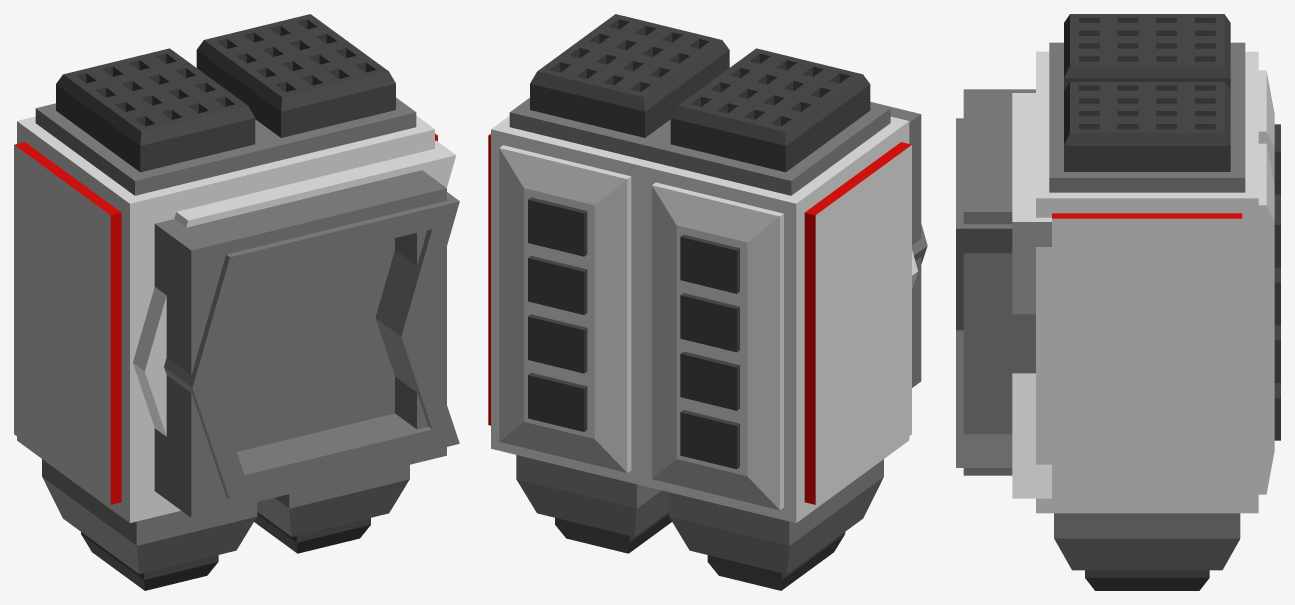
The picture shows the model from 3 angles, left to right: view 1: azimuth 30°, elevation 25°; view 2: azimuth 150°, elevation 25°; view 3: azimuth 270°, elevation 25°; orthographic projection.
Visible parts, largest first — view 1: lnchr, shld; view 2: lnchr; view 3: lnchr, shld.
Boxes of the visible parts, x1=… form: lnchr: x1=14, y1=14, x2=446, y2=590; shld: x1=133, y1=140, x2=459, y2=499; lnchr: x1=488, y1=14, x2=921, y2=590; lnchr: x1=963, y1=14, x2=1280, y2=590; shld: x1=956, y1=93, x2=1051, y2=498.
Bounding box in the file's own units: 96.03 × 83.78 × 132.
